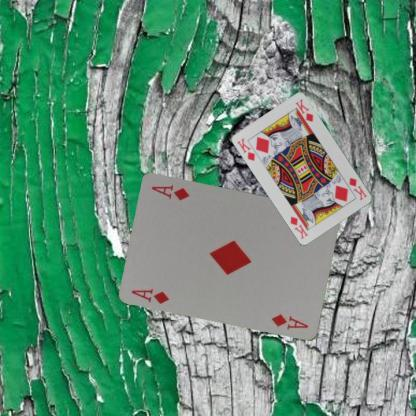Ad: (129, 285, 171, 305)
Kd: (234, 136, 256, 162), (347, 175, 368, 202)
